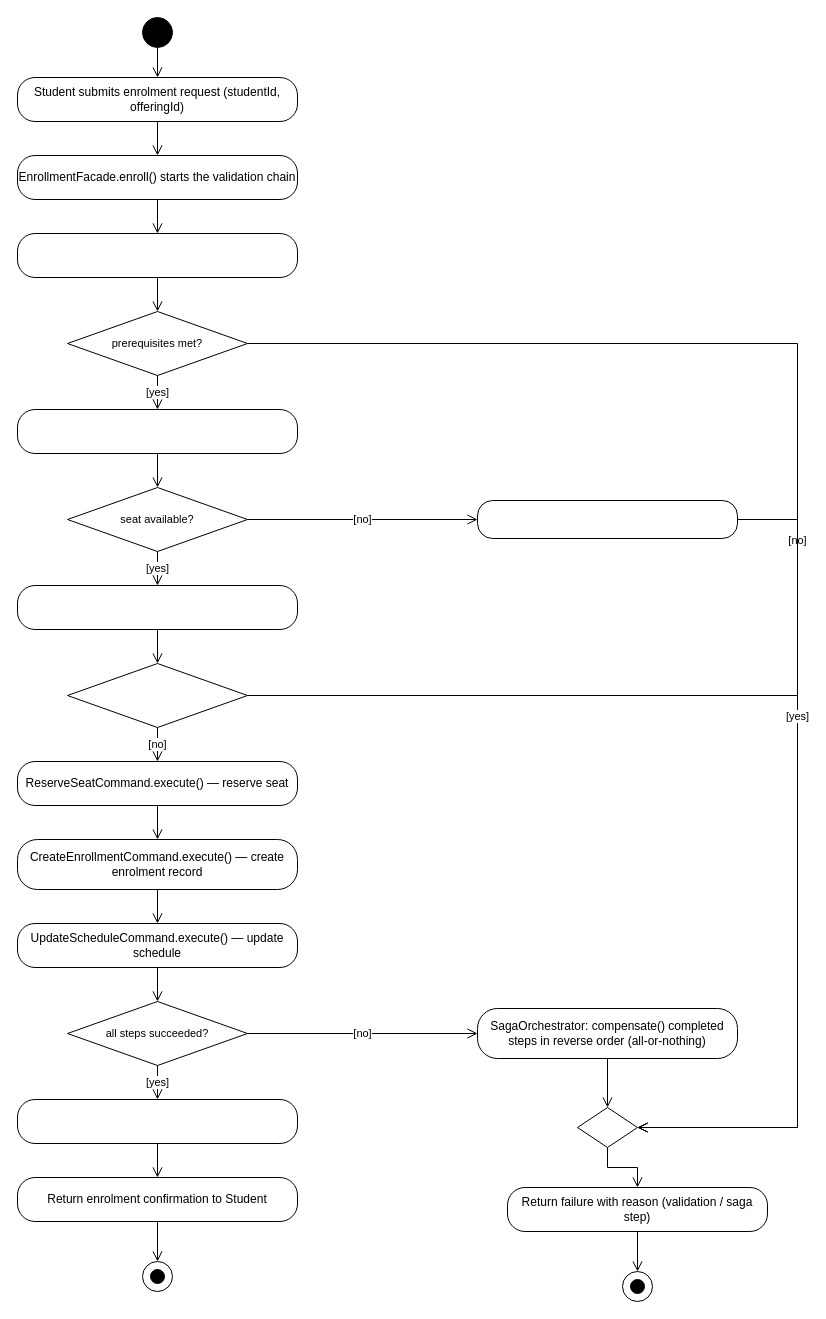
Image size: 826x1319. Some labels were removed from this diagram. Each missing label, with the centre of its shape:
Add student to waitlist: point 607,519
CapacityValidator: check seat availability: point 157,431
conflict found?: point 157,695
PrerequisiteValidator: check prerequisites: point 157,255
Publish EnrollmentConfirmed event (EventPublisher): point 157,1121
TimeConflictValidator: check timetable conflicts: point 157,607
